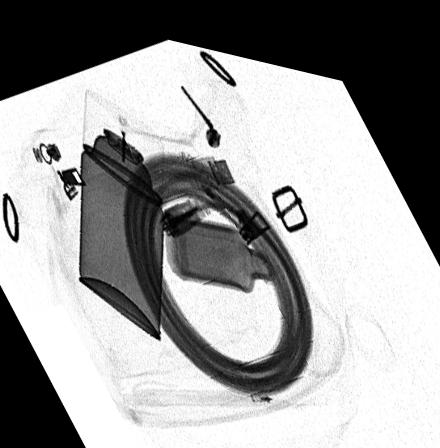Sprayer: (78, 85, 164, 332)
